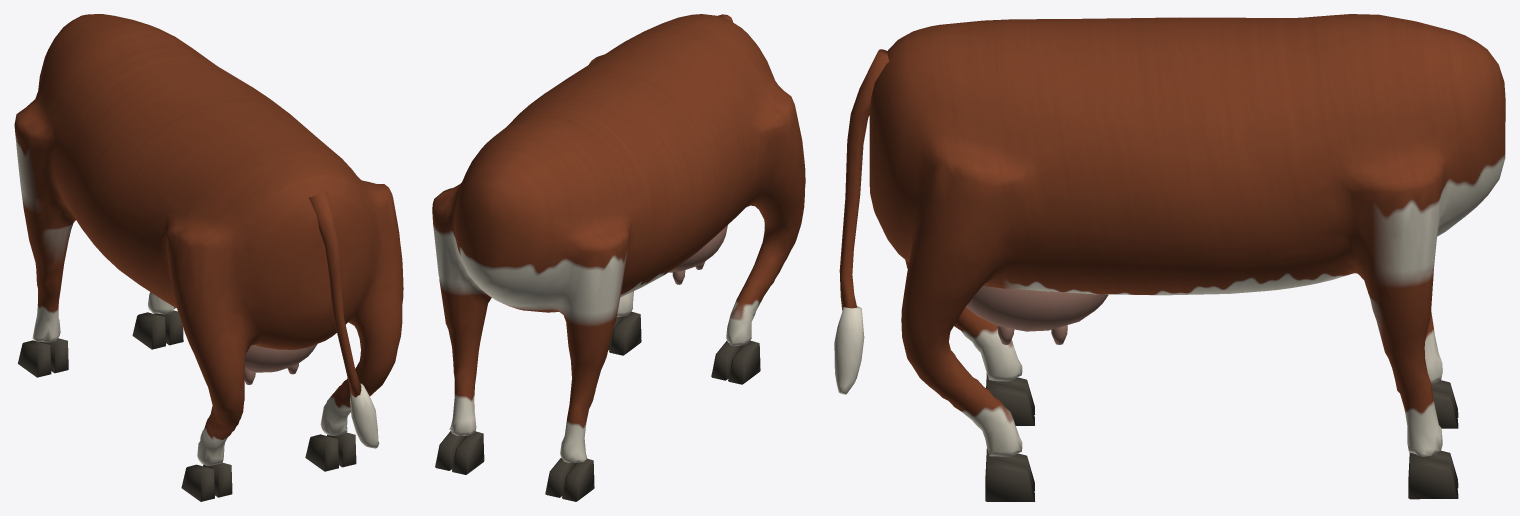
Rendered from SM_Cow_Alive_Body_LOD2.fbx.
3 renders of one model, left to right at view 1: azimuth 30°, elevation 25°; view 2: azimuth 150°, elevation 25°; view 3: azimuth 270°, elevation 25°, orthographic. The views are drawn at different scales.
Parts seen in each view (by area): view 1: SM_Cow_Alive_Body_LOD2; view 2: SM_Cow_Alive_Body_LOD2; view 3: SM_Cow_Alive_Body_LOD2.
Boxes of the visible parts, x1=… form: SM_Cow_Alive_Body_LOD2: x1=14, y1=14, x2=403, y2=501; SM_Cow_Alive_Body_LOD2: x1=432, y1=14, x2=805, y2=501; SM_Cow_Alive_Body_LOD2: x1=834, y1=14, x2=1505, y2=501.
Bounding box in the file's own units: 0.9526 × 2.01 × 1.43.
